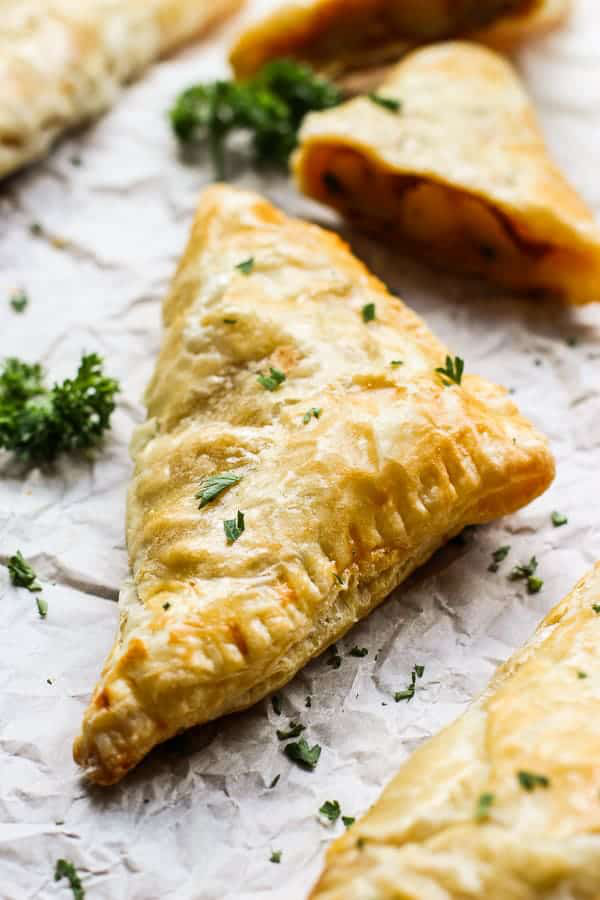Curry Puff: (87, 163, 561, 814), (279, 550, 599, 879), (288, 44, 592, 279)
